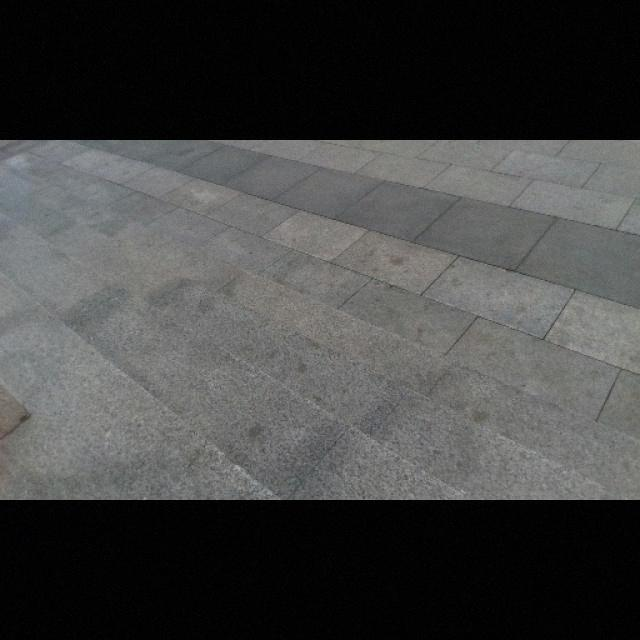stair: (65, 258, 511, 480)
